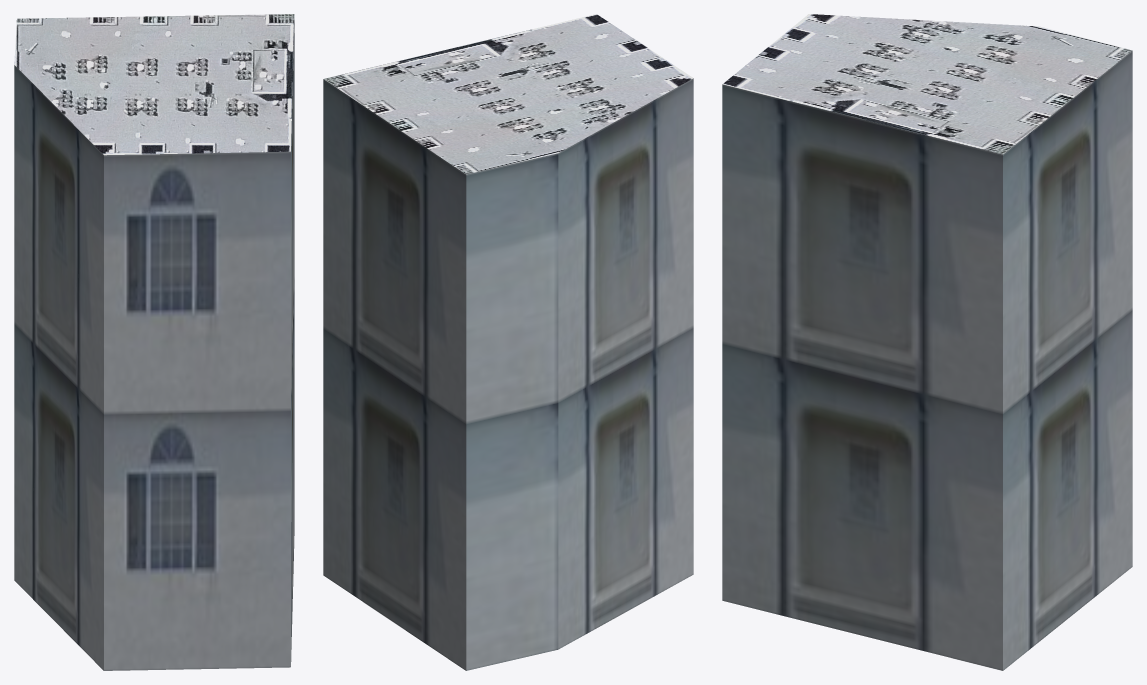
File: ResTex__1131.fbx
The picture shows the model from 3 angles, left to right: view 1: azimuth 30°, elevation 25°; view 2: azimuth 150°, elevation 25°; view 3: azimuth 270°, elevation 25°; orthographic projection. The views are drawn at different scales.
Visible parts, largest first — view 1: CityEngineMaterial_17_m, CityEngineMaterial_8_m; view 2: CityEngineMaterial_17_m, CityEngineMaterial_8_m; view 3: CityEngineMaterial_17_m, CityEngineMaterial_8_m.
Boxes of the visible parts, left/top/right/bottom form: CityEngineMaterial_17_m: left=14, top=20, right=294, bottom=670; CityEngineMaterial_8_m: left=14, top=14, right=294, bottom=155; CityEngineMaterial_17_m: left=323, top=78, right=693, bottom=670; CityEngineMaterial_8_m: left=324, top=14, right=693, bottom=174; CityEngineMaterial_17_m: left=722, top=51, right=1132, bottom=670; CityEngineMaterial_8_m: left=723, top=14, right=1132, bottom=154.
Bounding box in the file's own units: 3.5 × 6 × 4.32.
2 materials, 2 textured.
